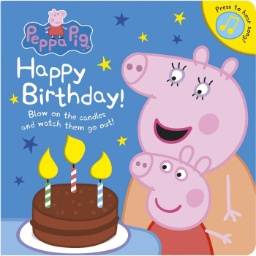Peppa: (128, 145, 232, 256)
